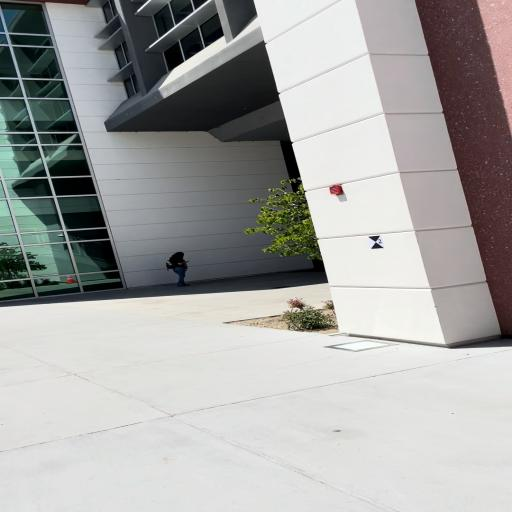target2: (367, 236, 384, 249)
